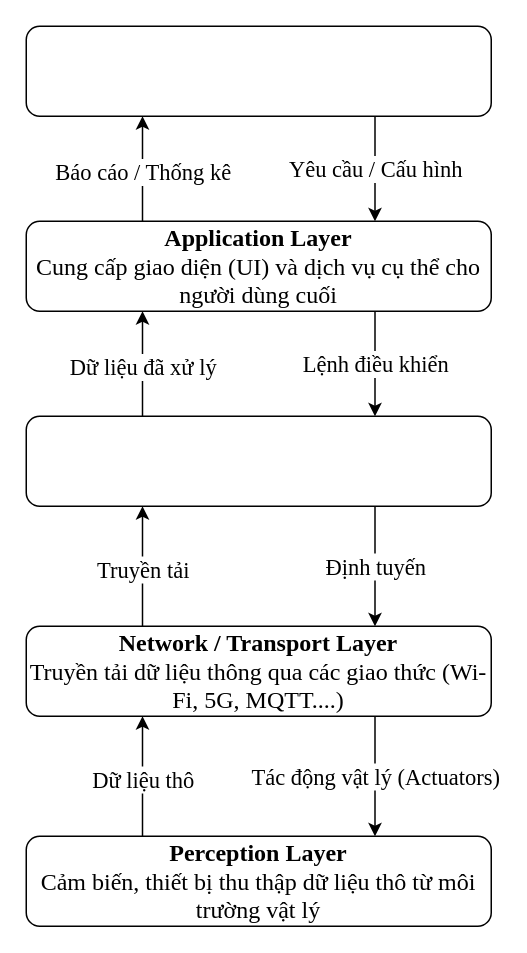
This 527x953 diagram has some shape labels left out. The centre of each missing label's shape, as x and y in pixels:
Business Layer Quản lý tổng thể hệ thống, phân tích kinh doanh và ra quyết định: point 258,70
Processing Layer Lưu trữ, tiền xử lý, và phân tích dữ liệu (Cloud/Edge): point 258,460
